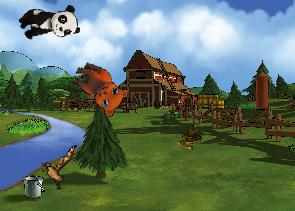bear: (63, 58, 133, 120)
eagle: (39, 143, 77, 191)
panda: (17, 3, 80, 43)
